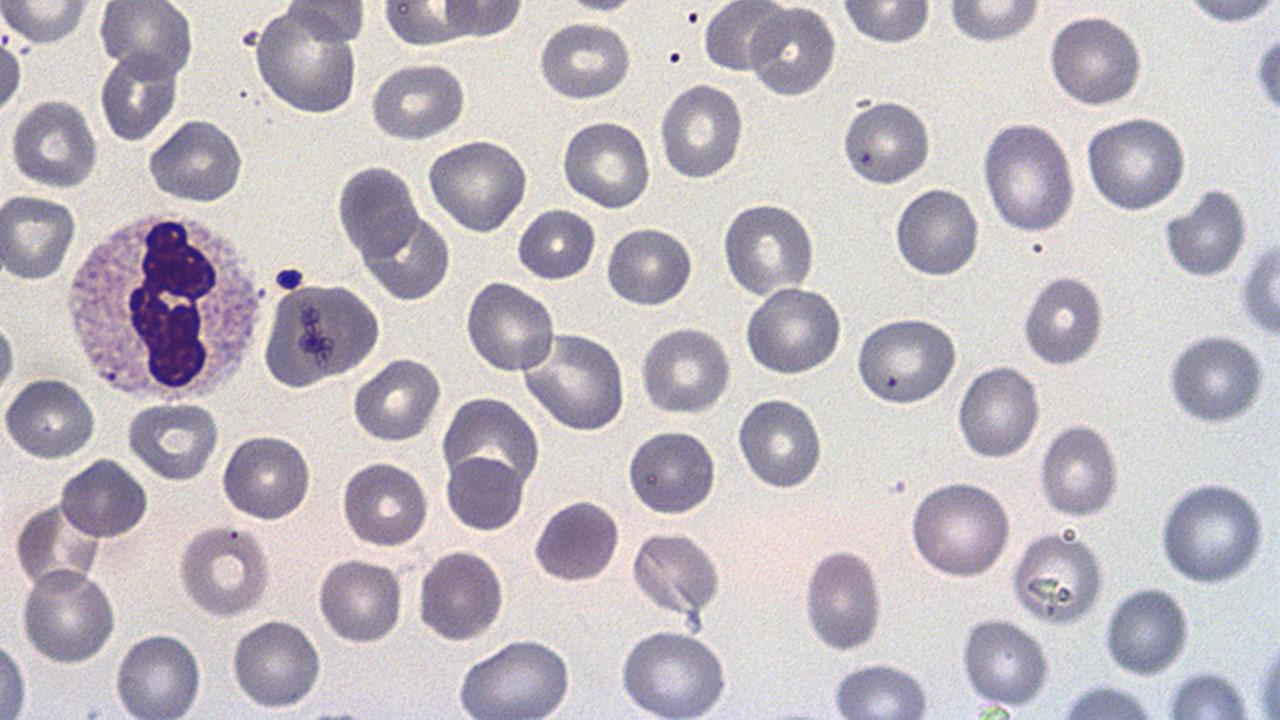Platelets: (1253, 26, 1280, 125)
RBC: (260, 278, 383, 388), (252, 5, 359, 118), (1157, 480, 1267, 586), (980, 120, 1076, 235), (908, 478, 1013, 582), (521, 330, 628, 432), (1083, 113, 1187, 214), (425, 137, 530, 236), (617, 625, 730, 716), (18, 565, 117, 668), (1164, 331, 1268, 428), (454, 636, 576, 718), (1007, 528, 1107, 628), (852, 314, 958, 408), (720, 199, 818, 298), (1045, 12, 1145, 109), (742, 286, 844, 379), (228, 616, 324, 712), (176, 524, 274, 618), (956, 612, 1051, 708), (800, 545, 884, 653), (656, 80, 744, 183), (218, 430, 314, 524), (464, 278, 556, 376), (747, 3, 837, 103), (954, 360, 1042, 462), (146, 116, 247, 204), (358, 208, 450, 304), (624, 426, 720, 518), (12, 496, 102, 594), (560, 116, 652, 211), (414, 546, 504, 643), (838, 96, 932, 188), (112, 627, 207, 718), (636, 324, 732, 414), (736, 394, 824, 492), (534, 18, 634, 104), (338, 458, 431, 550), (7, 97, 101, 188), (1036, 421, 1122, 520), (893, 184, 981, 280), (1102, 582, 1188, 680), (351, 354, 443, 445), (529, 495, 623, 584), (1020, 270, 1107, 366), (1163, 184, 1247, 283), (368, 59, 468, 142), (315, 554, 404, 647), (628, 528, 722, 616), (334, 160, 416, 260), (125, 398, 220, 484), (1, 374, 96, 460), (98, 0, 195, 83), (603, 223, 695, 310), (57, 455, 148, 539), (98, 48, 178, 142), (0, 190, 76, 282), (444, 450, 524, 534), (701, 0, 788, 75), (514, 205, 596, 282), (828, 659, 934, 717), (1238, 231, 1280, 342), (381, 0, 471, 50), (945, 1, 1044, 44), (839, 1, 932, 46), (282, 1, 368, 46), (1, 1, 91, 44), (440, 0, 524, 39), (1180, 0, 1280, 26), (0, 634, 30, 716), (0, 25, 24, 126)
WBC: (61, 204, 274, 405), (250, 4, 364, 115), (744, 4, 839, 98), (700, 0, 796, 77), (1252, 6, 1280, 138)
